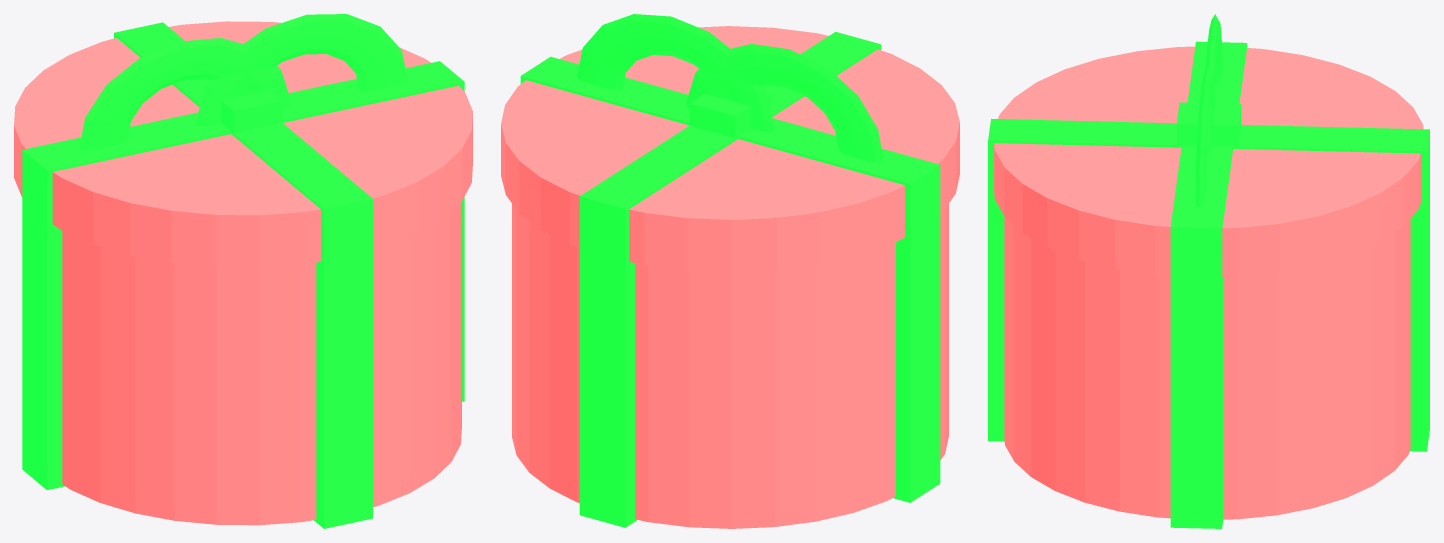
The model's file is Tmpl_Round_Root_200.glb.
3 views of the same model, side by side, from view 1: azimuth 30°, elevation 25°; view 2: azimuth 150°, elevation 25°; view 3: azimuth 270°, elevation 25° (orthographic). The views are drawn at different scales.
Parts seen in each view (by area): view 1: Tmpl_Round_Base.198, Tmpl_Round_Lid.198, Tmpl_Round_Ribbon_Y.198, Tmpl_Round_Ribbon_X.198, Tmpl_Round_BowL.198, Tmpl_Round_BowR.198, Tmpl_Round_BowKnot.198; view 2: Tmpl_Round_Base.198, Tmpl_Round_Lid.198, Tmpl_Round_Ribbon_Y.198, Tmpl_Round_Ribbon_X.198, Tmpl_Round_BowL.198, Tmpl_Round_BowR.198, Tmpl_Round_BowKnot.198; view 3: Tmpl_Round_Base.198, Tmpl_Round_Lid.198, Tmpl_Round_Ribbon_X.198, Tmpl_Round_Ribbon_Y.198, Tmpl_Round_BowKnot.198, Tmpl_Round_BowL.198, Tmpl_Round_BowR.198.
Part boxes in pixels (x1,y1,x2,y2): Tmpl_Round_Base.198: [62, 201, 461, 525]; Tmpl_Round_Lid.198: [14, 21, 472, 267]; Tmpl_Round_Ribbon_Y.198: [114, 22, 372, 528]; Tmpl_Round_Ribbon_X.198: [22, 61, 464, 490]; Tmpl_Round_BowL.198: [196, 14, 407, 125]; Tmpl_Round_BowR.198: [79, 38, 290, 150]; Tmpl_Round_BowKnot.198: [204, 86, 282, 135]; Tmpl_Round_Base.198: [512, 204, 948, 528]; Tmpl_Round_Lid.198: [501, 26, 959, 272]; Tmpl_Round_Ribbon_Y.198: [579, 31, 881, 527]; Tmpl_Round_Ribbon_X.198: [520, 56, 940, 502]; Tmpl_Round_BowL.198: [577, 14, 774, 132]; Tmpl_Round_BowR.198: [686, 44, 883, 162]; Tmpl_Round_BowKnot.198: [689, 91, 771, 138]; Tmpl_Round_Base.198: [1004, 217, 1410, 519]; Tmpl_Round_Lid.198: [994, 46, 1423, 277]; Tmpl_Round_Ribbon_X.198: [1170, 41, 1247, 528]; Tmpl_Round_Ribbon_Y.198: [988, 118, 1429, 451]; Tmpl_Round_BowKnot.198: [1176, 102, 1241, 148]; Tmpl_Round_BowL.198: [1195, 67, 1215, 207]; Tmpl_Round_BowR.198: [1205, 14, 1222, 154].
Size of the model in its own units: 1.06 by 1.01 by 1.06.
